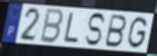2: (19, 7, 42, 43)
B: (38, 7, 65, 46), (103, 13, 128, 49)
G: (126, 16, 149, 50)
L: (63, 11, 81, 44)
S: (84, 12, 107, 47)
